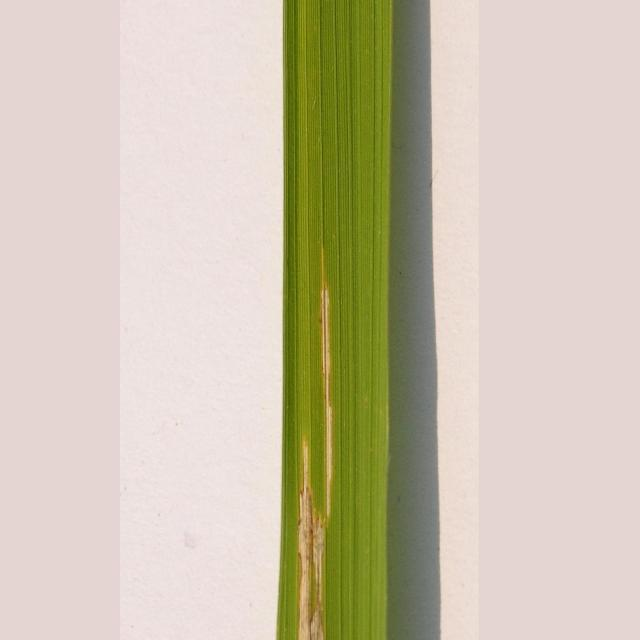leaf blight: (283, 266, 360, 638)
